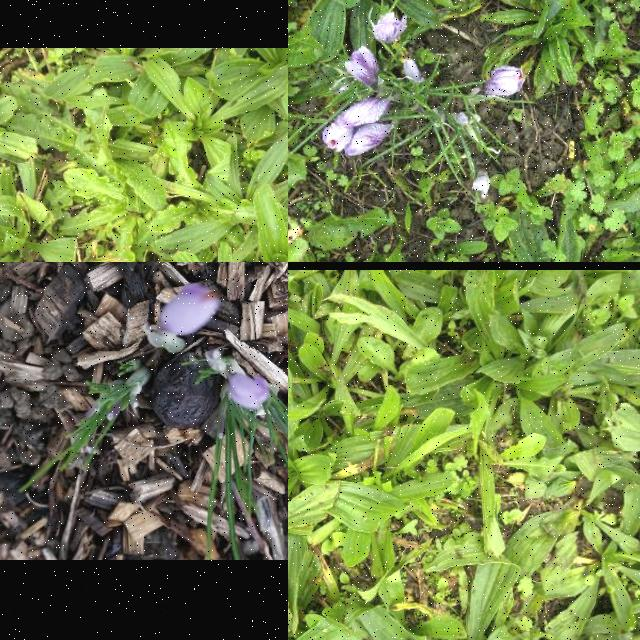flower: (162, 283, 220, 335), (344, 46, 381, 88), (482, 64, 526, 98), (373, 12, 409, 46), (403, 56, 425, 84), (472, 175, 492, 199)
overlap: (322, 96, 394, 158)
